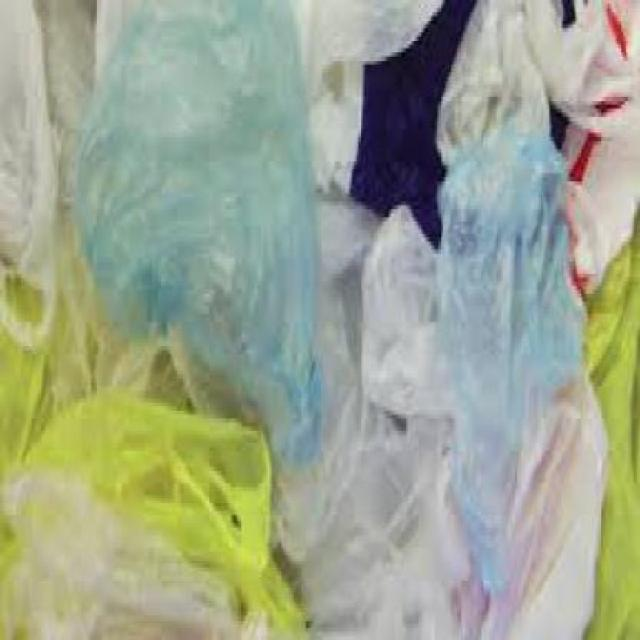PLASTIC: (79, 0, 318, 455), (163, 137, 366, 555), (22, 375, 266, 636), (0, 458, 265, 637), (292, 398, 486, 636), (305, 0, 477, 242), (0, 249, 192, 460), (481, 367, 610, 636), (290, 0, 439, 197), (579, 181, 638, 636), (358, 184, 451, 430), (0, 0, 51, 338), (556, 92, 638, 302), (522, 0, 638, 137), (40, 0, 94, 122), (253, 552, 302, 636)
